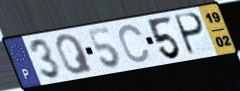3: (28, 36, 62, 81)
5: (86, 24, 124, 71), (144, 14, 182, 61)
C: (117, 23, 151, 65)
P: (174, 12, 206, 57)
Q: (55, 33, 96, 76)
